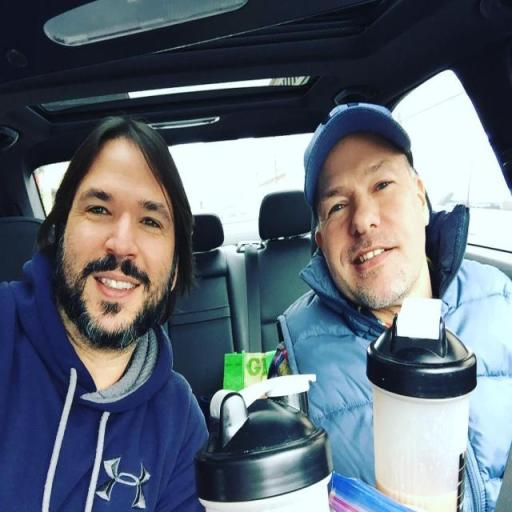Under Armour: (93, 452, 153, 510)
